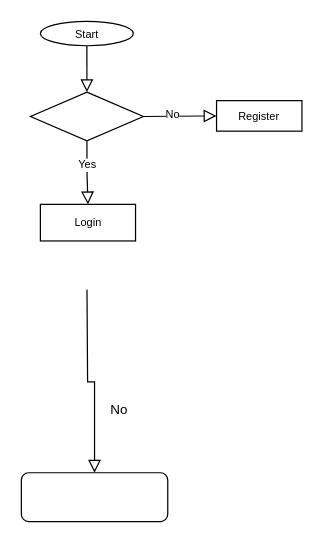
Some shapes in this 323 by 543 pixel diagram are drawn without their labels. The shapes that lost their labels are listed below. From the top down, each one's centre as x and y in pixels, then its label:
At point 86,116: "Have Account?".
At point 94,497: "Repair Lamp".
